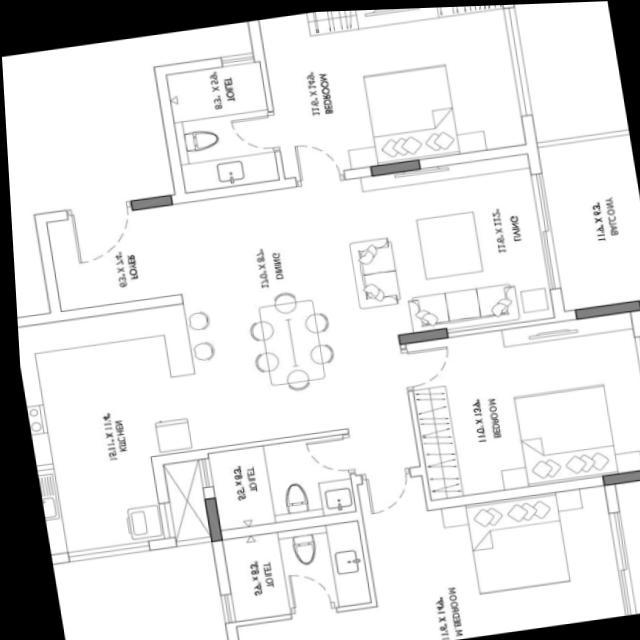Balcony-Sitout: (536, 132, 640, 313), (610, 473, 640, 613)
Bedroom: (399, 307, 640, 501)
Bedroom with Toilet: (161, 4, 531, 192), (210, 478, 627, 640)
Dining: (230, 273, 340, 400)
Enterance-Foyer: (46, 200, 178, 304)
Kitchen: (14, 299, 203, 548)
Living: (331, 153, 551, 342)
Toilet: (218, 518, 364, 617), (167, 58, 277, 188), (204, 431, 349, 525)
